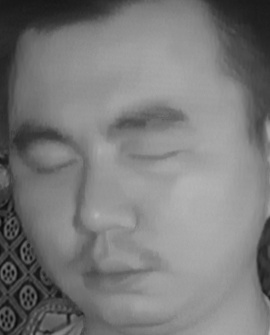blink: (127, 136, 186, 174), (25, 145, 78, 185)
mouth: (75, 247, 165, 301)
